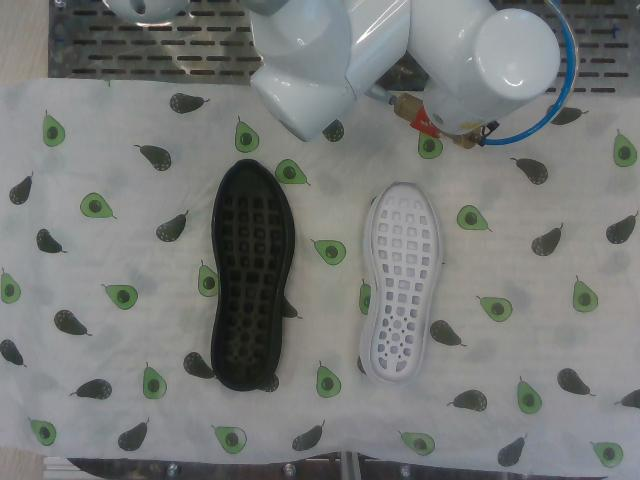shoes: (213, 159, 287, 385), (370, 182, 440, 383)
